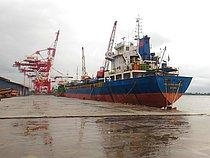Ship: (56, 15, 197, 111)
